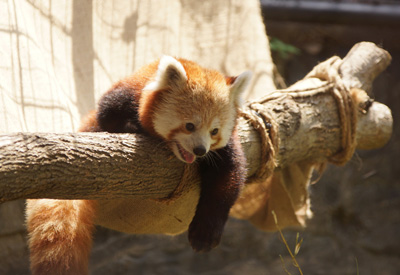red_panda: (24, 60, 244, 275)
